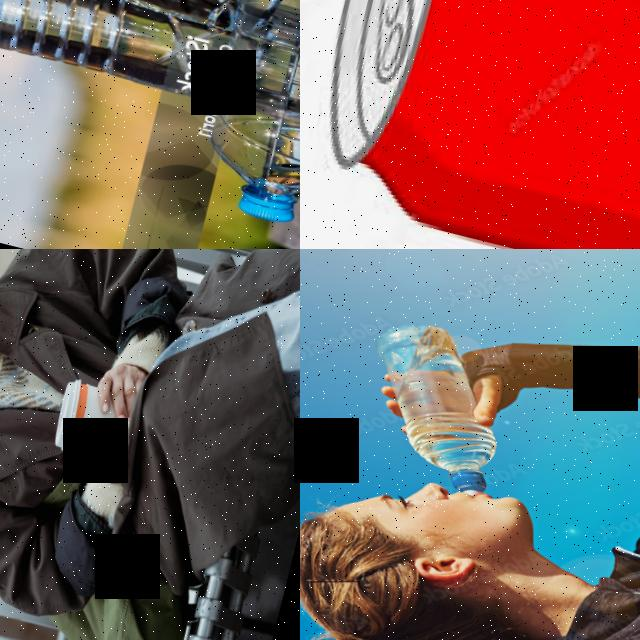bottle: (347, 311, 524, 494), (170, 0, 300, 238), (0, 0, 235, 109), (0, 0, 300, 67)
cup: (46, 374, 126, 465)
